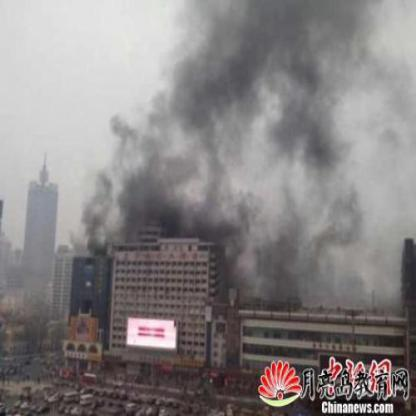smoke: (172, 1, 394, 118), (252, 211, 361, 305), (183, 116, 251, 236), (115, 104, 174, 242), (271, 113, 355, 169), (83, 160, 115, 258)
